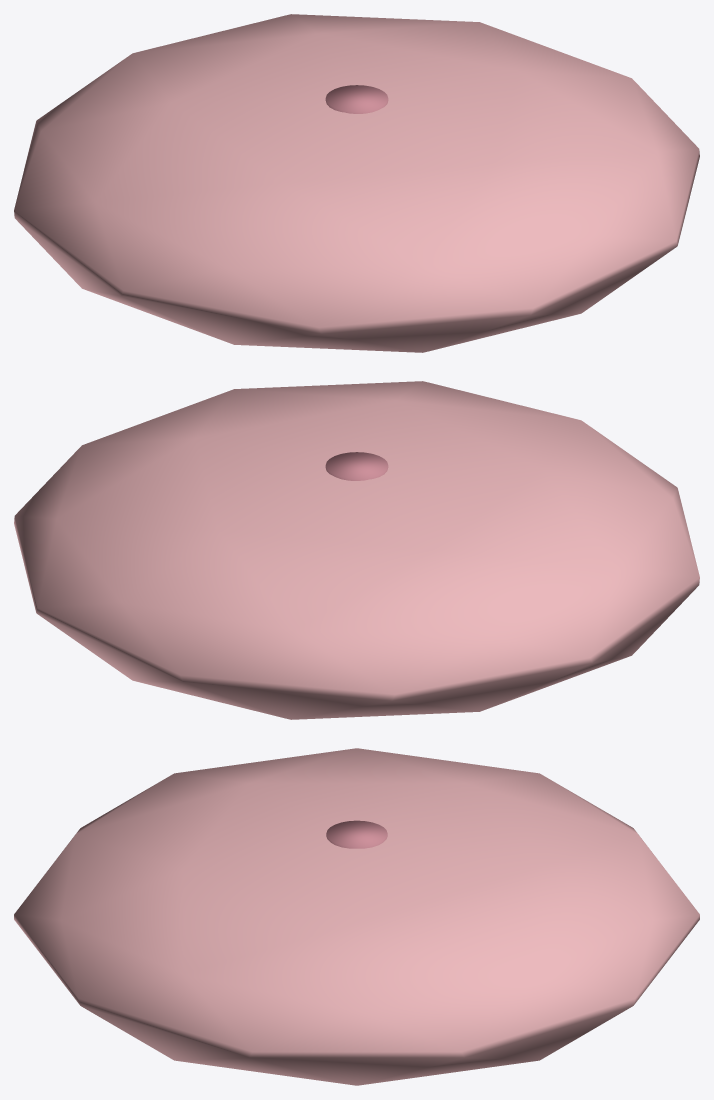
The model's file is floor_cushion.glb.
3 views of the same model, one above another, from view 1: azimuth 30°, elevation 25°; view 2: azimuth 150°, elevation 25°; view 3: azimuth 270°, elevation 25° (orthographic). The views are drawn at different scales.
Parts seen in each view (by area): view 1: cushion, button; view 2: cushion, button; view 3: cushion, button.
Boxes of the visible parts, x1=… form: cushion: x1=14, y1=14, x2=699, y2=352; button: x1=325, y1=85, x2=388, y2=113; cushion: x1=14, y1=381, x2=699, y2=719; button: x1=325, y1=452, x2=388, y2=480; cushion: x1=14, y1=748, x2=699, y2=1085; button: x1=326, y1=820, x2=387, y2=848.
Bounding box in the file's own units: 0.6391 × 0.18 × 0.671.
